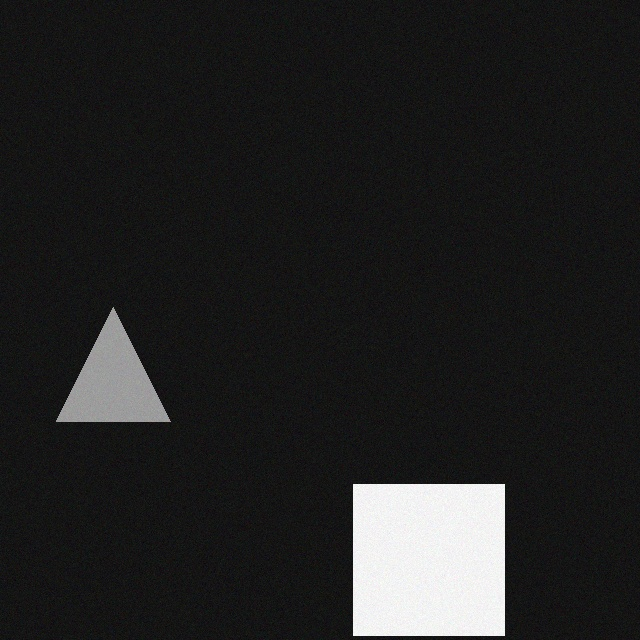square: (363, 474, 514, 625)
triangle: (66, 297, 180, 411)
